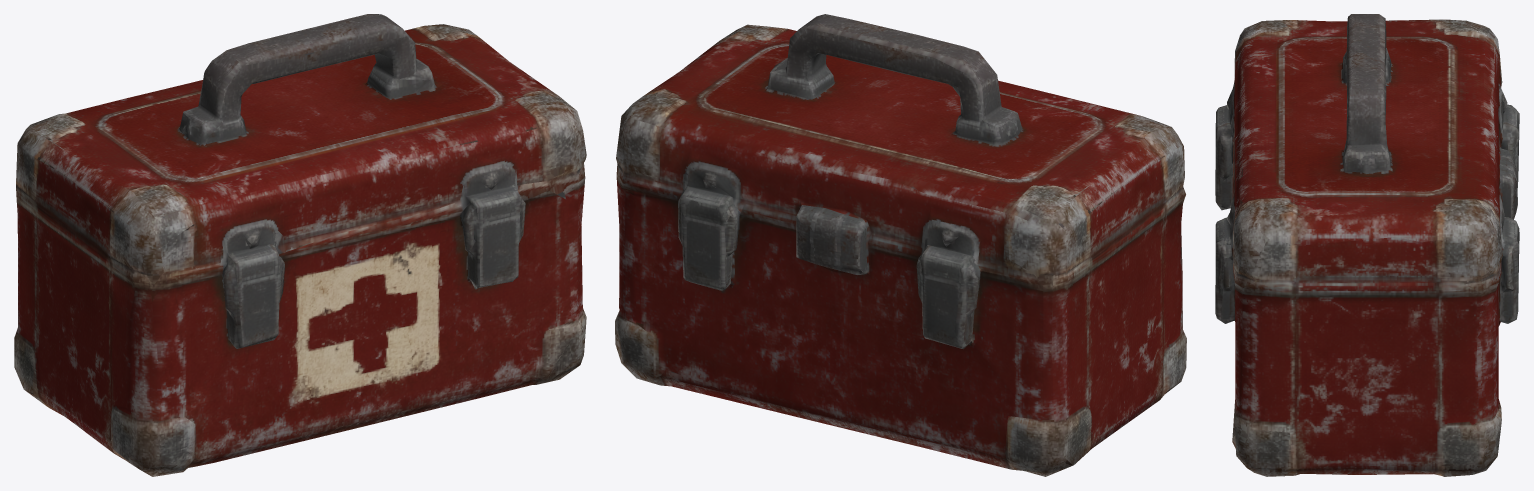
Rendered from medical_tin.glb.
The picture shows the model from 3 angles, left to right: view 1: azimuth 30°, elevation 25°; view 2: azimuth 150°, elevation 25°; view 3: azimuth 270°, elevation 25°; orthographic projection. The views are drawn at different scales.
Size of the model in its own units: 0.3 by 0.22 by 0.18.
Materials: 1 (1 with a texture image).
